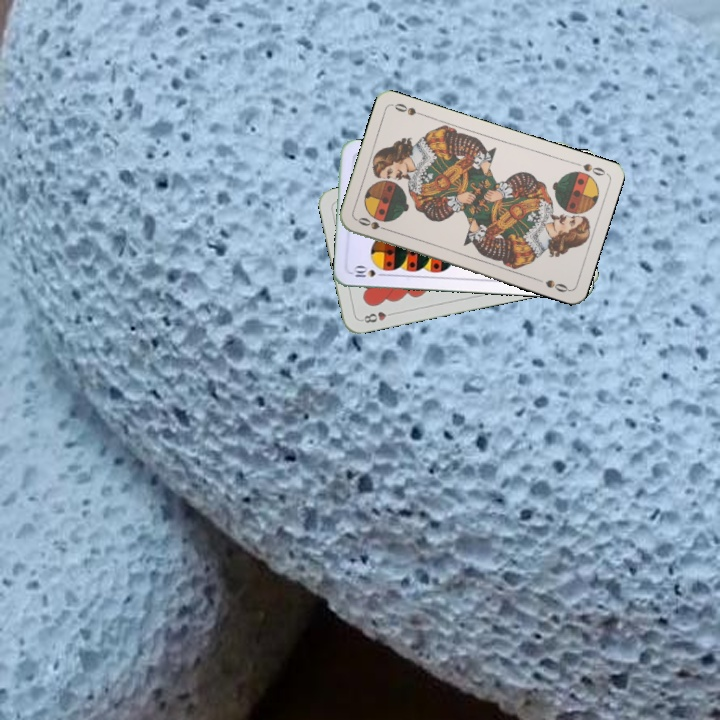H8: (357, 307, 397, 325)
S10: (348, 263, 388, 280)
SO: (353, 213, 392, 234), (569, 158, 608, 178)
